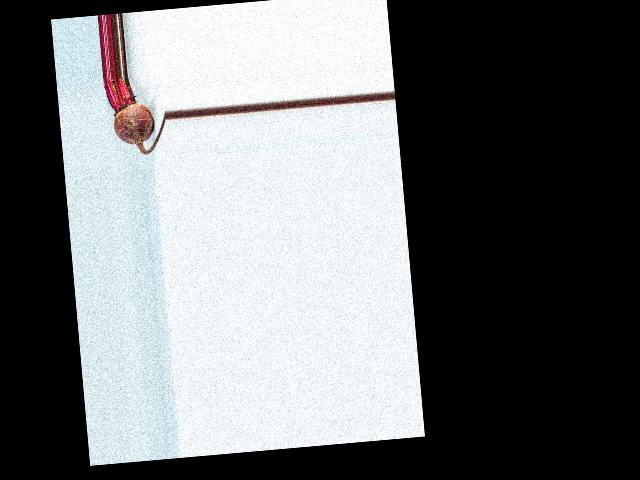beet: (103, 72, 168, 157)
